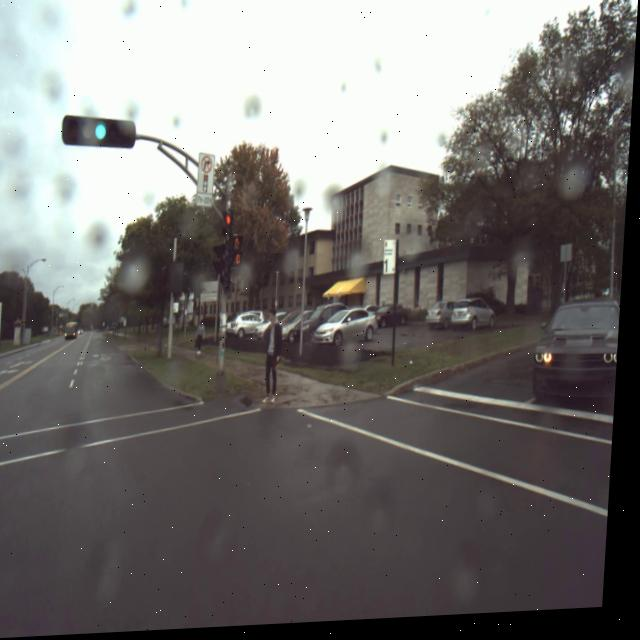pedestrian: (199, 322, 211, 359)
trafficLight-Red: (228, 210, 235, 240)
